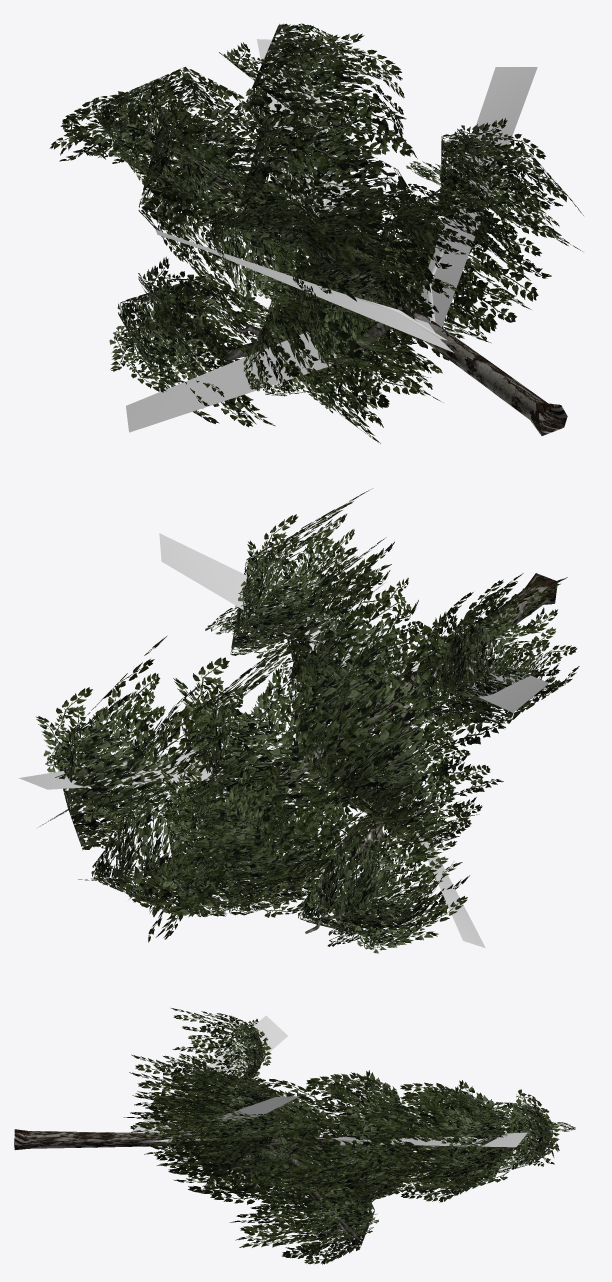
File: MEP_Birch_01_d.fbx
The picture shows the model from 3 angles, top to bottom: view 1: azimuth 30°, elevation 25°; view 2: azimuth 150°, elevation 25°; view 3: azimuth 270°, elevation 25°; orthographic projection. The views are drawn at different scales.
Parts seen in each view (by area): view 1: MEP_Birch_01_d, MEP_Birch_Bark_01_d; view 2: MEP_Birch_01_d, MEP_Birch_Bark_01_d; view 3: MEP_Birch_01_d, MEP_Birch_Bark_01_d.
Boxes of the visible parts, x1,y1,x2,y2 form: MEP_Birch_01_d: (49,23,583,443); MEP_Birch_Bark_01_d: (145,129,567,435); MEP_Birch_01_d: (19,488,579,953); MEP_Birch_Bark_01_d: (129,573,557,899); MEP_Birch_01_d: (123,1008,575,1264); MEP_Birch_Bark_01_d: (14,1129,556,1149).
Size of the model in its own units: 8.94 by 7.21 by 18.11.
